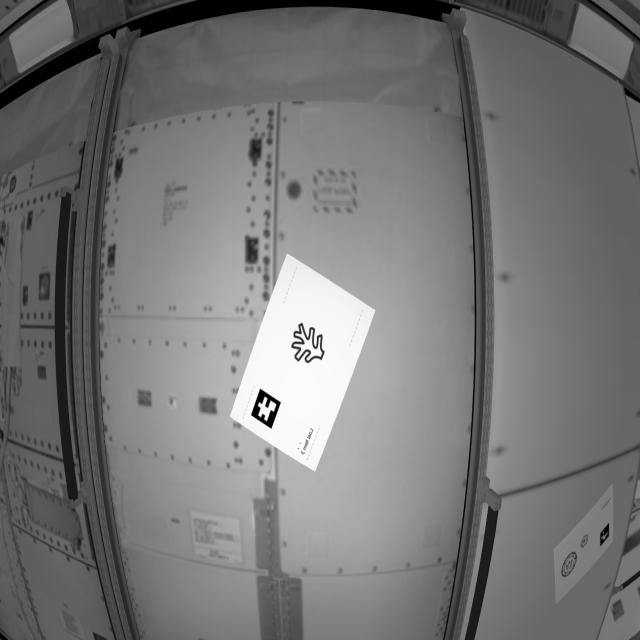coral: (291, 322, 327, 371)
